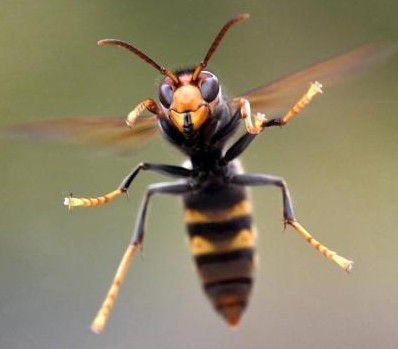hornet: (95, 23, 313, 334)
